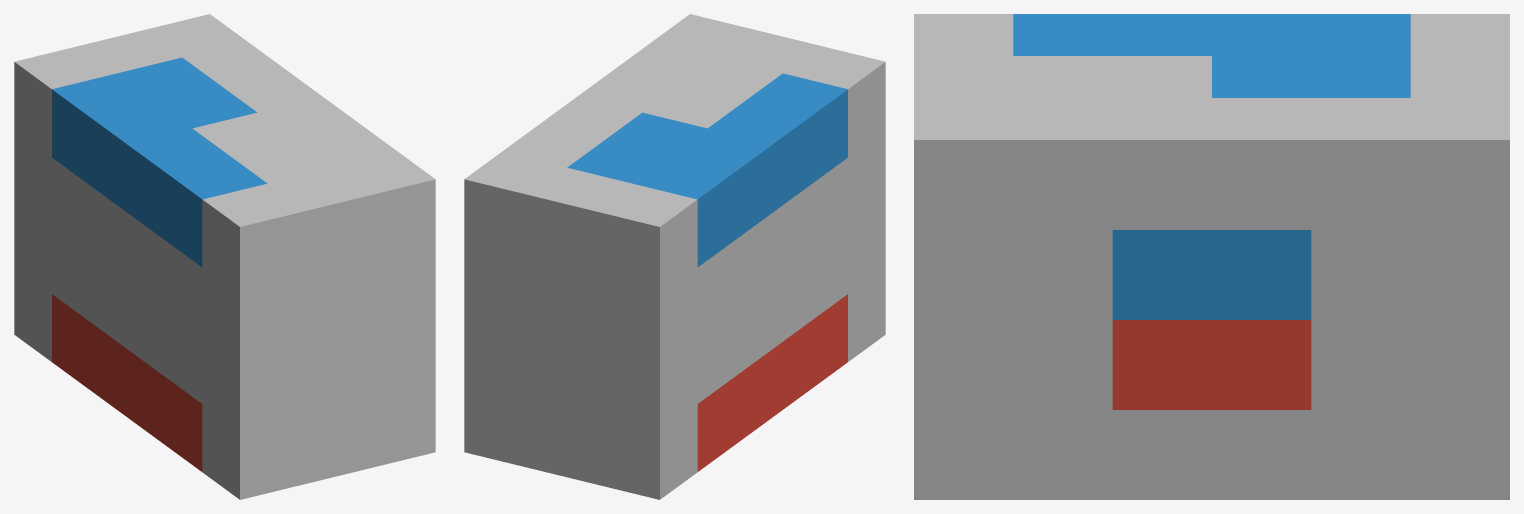
Rendered from tiling.obj.
3 renders of one model, left to right at view 1: azimuth 30°, elevation 25°; view 2: azimuth 150°, elevation 25°; view 3: azimuth 270°, elevation 25°, orthographic. The views are drawn at different scales.
Parts seen in each view (by area): view 1: copy_6, copy_7, copy_2, copy_4, copy_5, copy_1, copy_8, copy_3; view 2: copy_5, copy_8, copy_2, copy_4, copy_6, copy_1, copy_7, copy_3; view 3: copy_4, copy_8, copy_2, copy_7, copy_3, copy_6, copy_5, copy_1.
Part boxes in pixels (x1=…): copy_6: x1=202, y1=167, x2=370, y2=499; copy_7: x1=165, y1=152, x2=435, y2=483; copy_2: x1=52, y1=57, x2=267, y2=267; copy_4: x1=89, y1=41, x2=397, y2=308; copy_5: x1=14, y1=46, x2=116, y2=361; copy_1: x1=52, y1=294, x2=202, y2=471; copy_8: x1=52, y1=14, x2=246, y2=321; copy_3: x1=89, y1=254, x2=164, y2=376; copy_5: x1=529, y1=183, x2=697, y2=499; copy_8: x1=464, y1=152, x2=734, y2=467; copy_2: x1=567, y1=73, x2=847, y2=267; copy_4: x1=502, y1=41, x2=810, y2=308; copy_6: x1=718, y1=30, x2=885, y2=361; copy_1: x1=697, y1=294, x2=847, y2=471; copy_7: x1=653, y1=14, x2=847, y2=321; copy_3: x1=735, y1=254, x2=810, y2=376; copy_4: x1=1013, y1=56, x2=1410, y2=229; copy_8: x1=1410, y1=56, x2=1509, y2=499; copy_2: x1=1013, y1=14, x2=1410, y2=319; copy_7: x1=914, y1=98, x2=1013, y2=499; copy_3: x1=1013, y1=410, x2=1410, y2=499; copy_6: x1=914, y1=14, x2=1112, y2=409; copy_5: x1=1311, y1=14, x2=1509, y2=409; copy_1: x1=1112, y1=320, x2=1311, y2=409.
Bounding box in the file's own units: 3 × 4 × 6.
